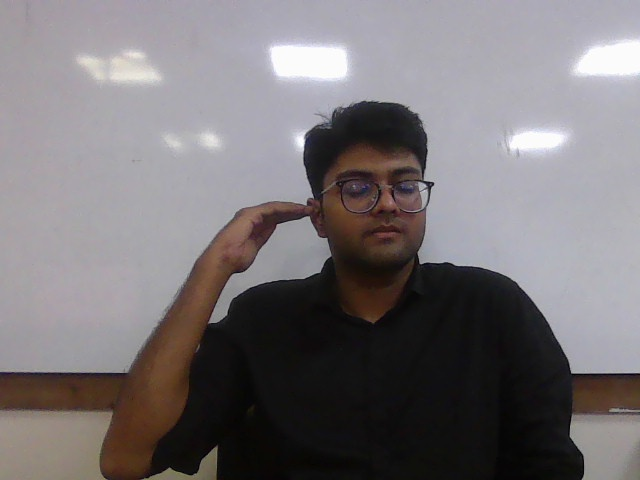Prottibondhi: (208, 200, 320, 275)
